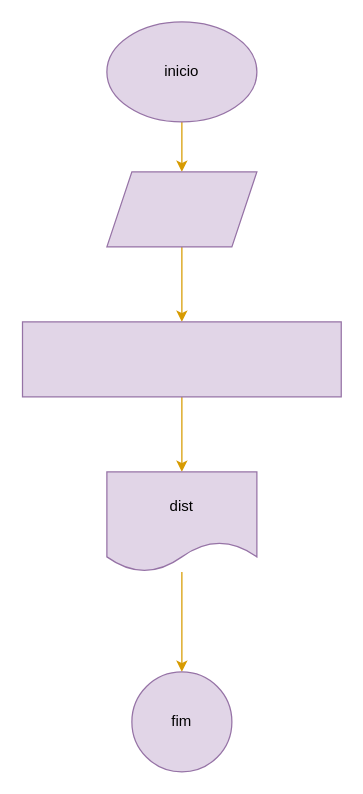
Some shapes in this 363 by 794 pixel diagram are drawn without their labels. Each missing label, with the centre of its shape:
impostos = (valorcarro*45/100)+valorcarro dist =(impostos*28/100)+impostos: the point at 181,359
valorcarro: the point at 181,209
